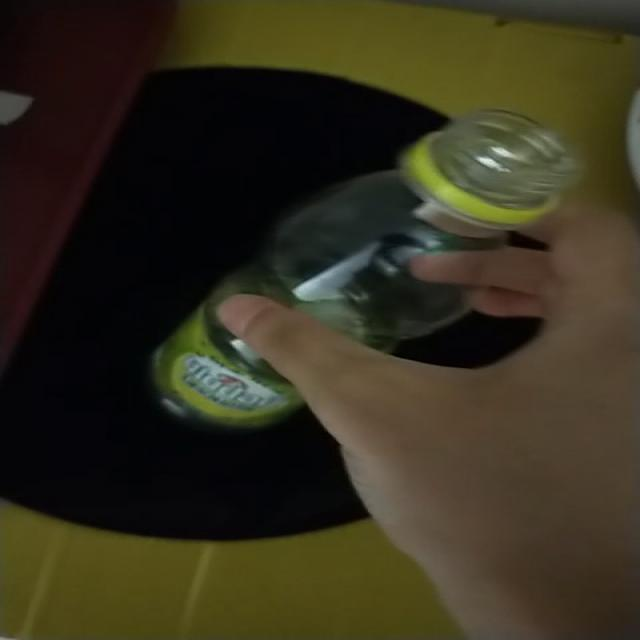Plastic: (152, 109, 580, 430)
